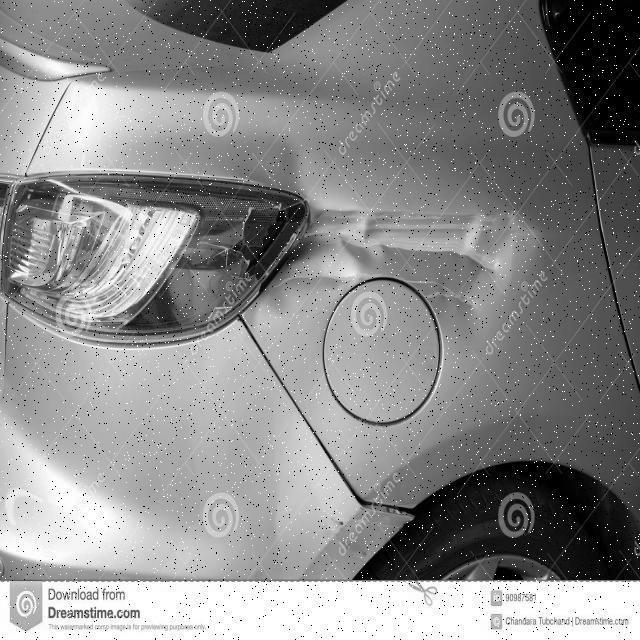Taillight-Damage: (4, 142, 323, 376)
quaterpanel-dent: (279, 134, 629, 589)
rear-bumper-dent: (0, 297, 422, 581)
